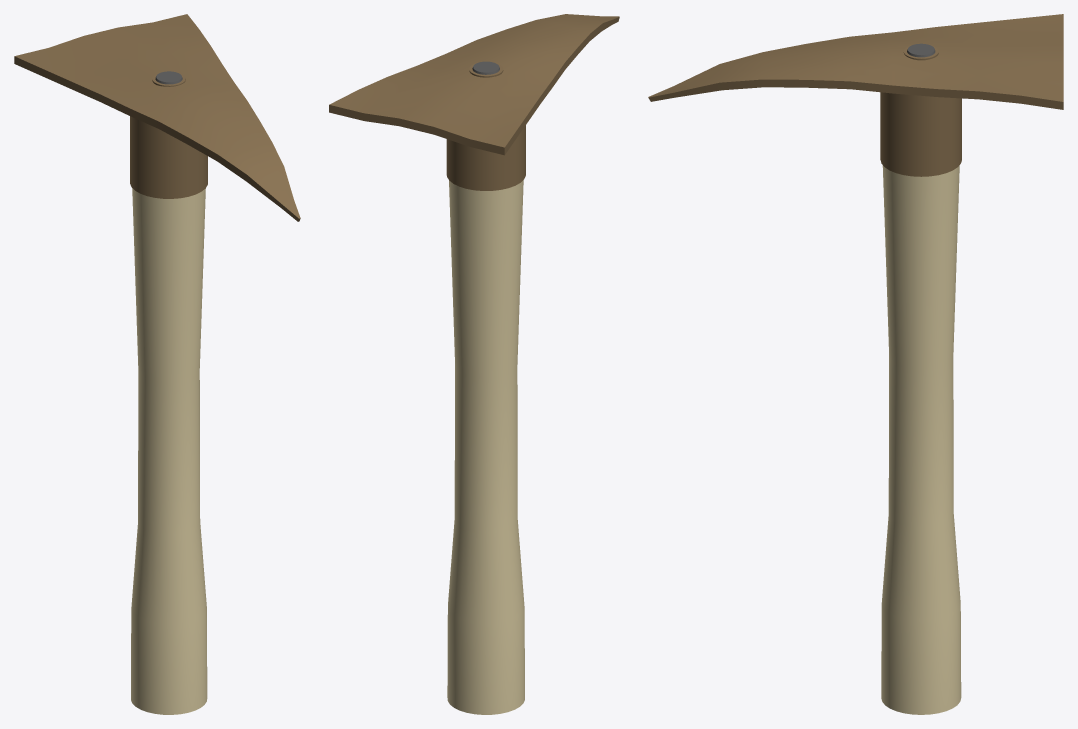
The model's file is pickaxe.gltf.
3 views of the same model, side by side, from view 1: azimuth 30°, elevation 25°; view 2: azimuth 150°, elevation 25°; view 3: azimuth 270°, elevation 25° (orthographic). The views are drawn at different scales.
Parts seen in each view (by area): view 1: Pickaxe; view 2: Pickaxe; view 3: Pickaxe.
Part boxes in pixels (box(x1,y1,x2,y2)): Pickaxe: box(14, 14, 300, 714); Pickaxe: box(329, 14, 619, 714); Pickaxe: box(648, 14, 1063, 714).
Bounding box in the file's own units: 0.0249 × 0.0854 × 0.0496.
